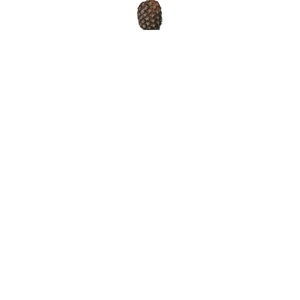abacaxi: (134, 1, 165, 31)
